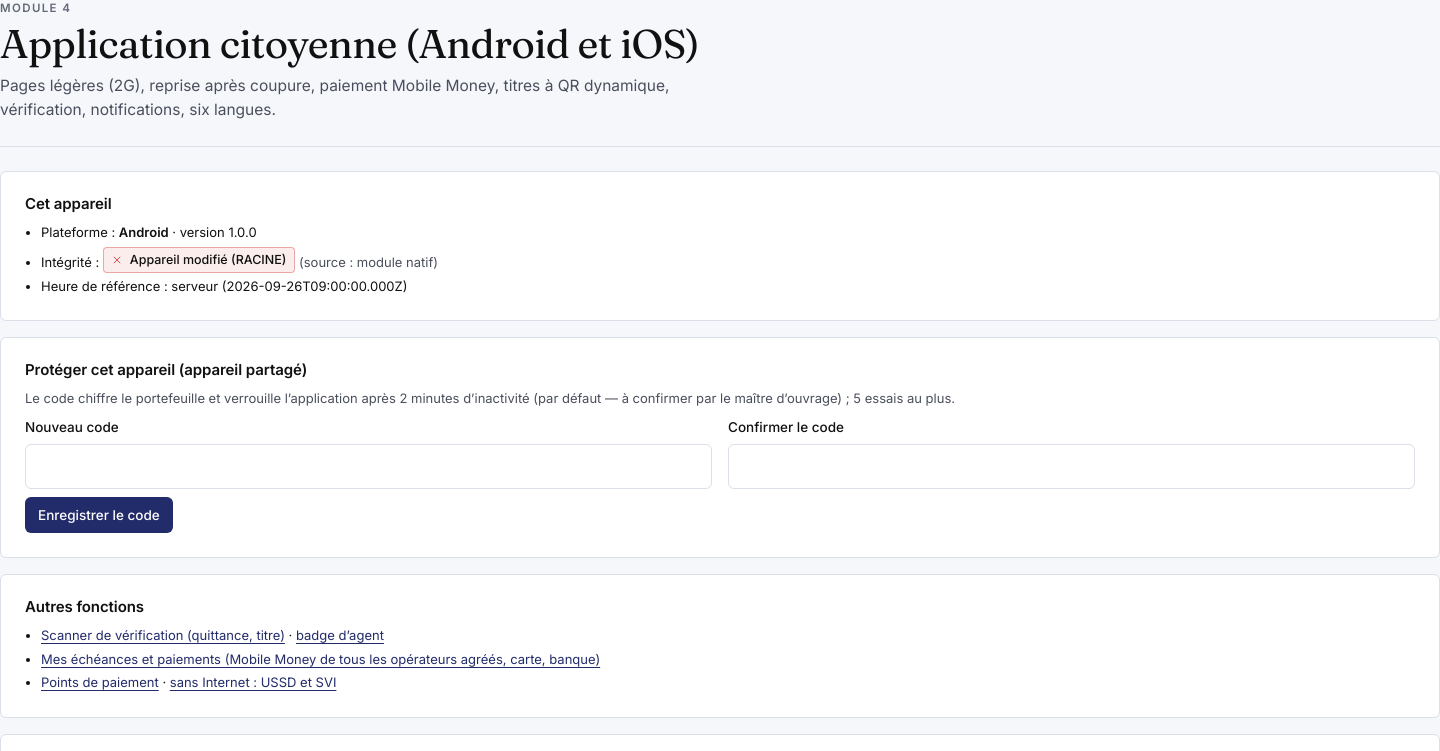
Scenario: Module 4 — fonctions de l’appareil (niveau web) › écran : installation enregistrée, appareil modifié signalé, code puis portefeuille ; en-tête d’installation joint aux requêtes
The width and height of the screenshot is (1440, 751).
Check: the text "Appareil modifié (RACINE)" is shown, box [130,250,286,270]
Type "1234" into the password field labelled "Nouveau code" at (368, 466), box [25,444,712,489]
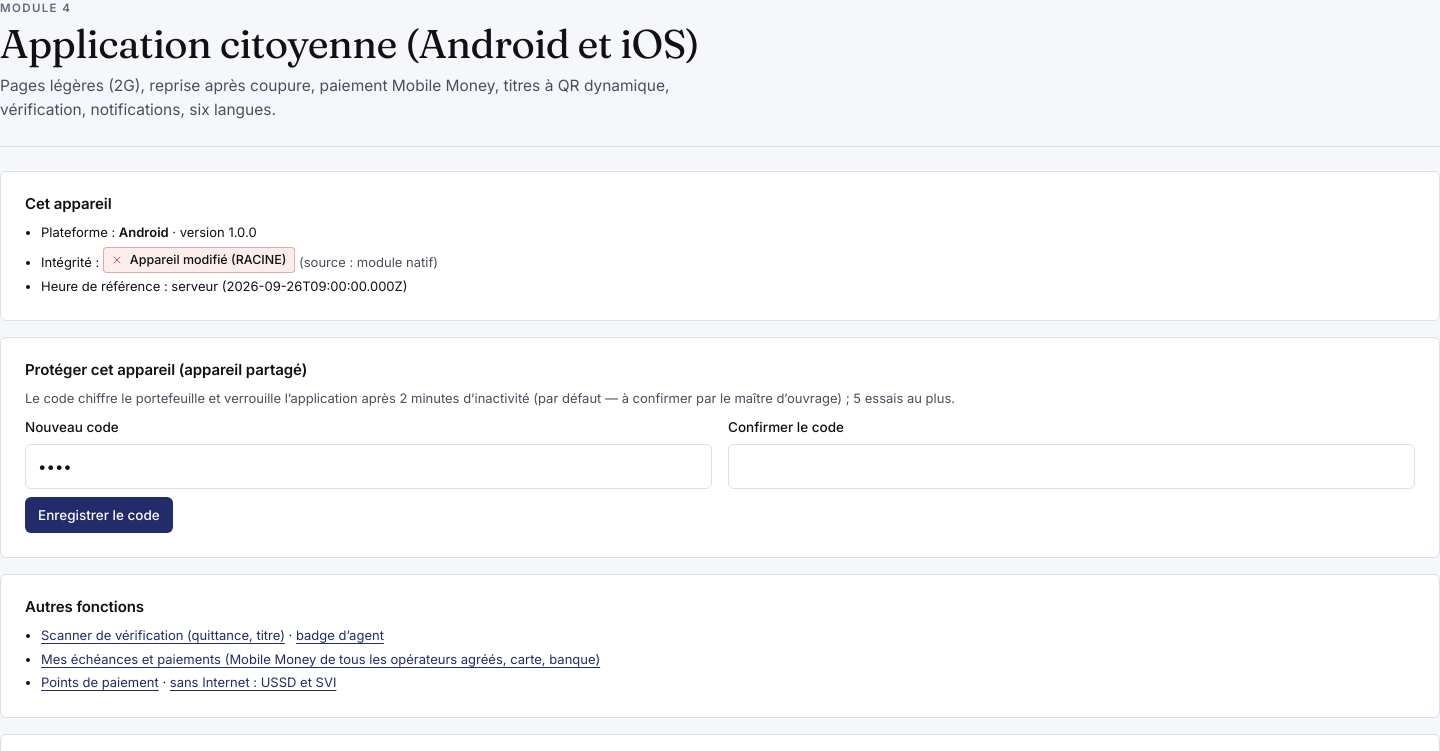
Type "1234" into the password field labelled "Confirmer le code" at (1072, 466), box [728,444,1415,489]
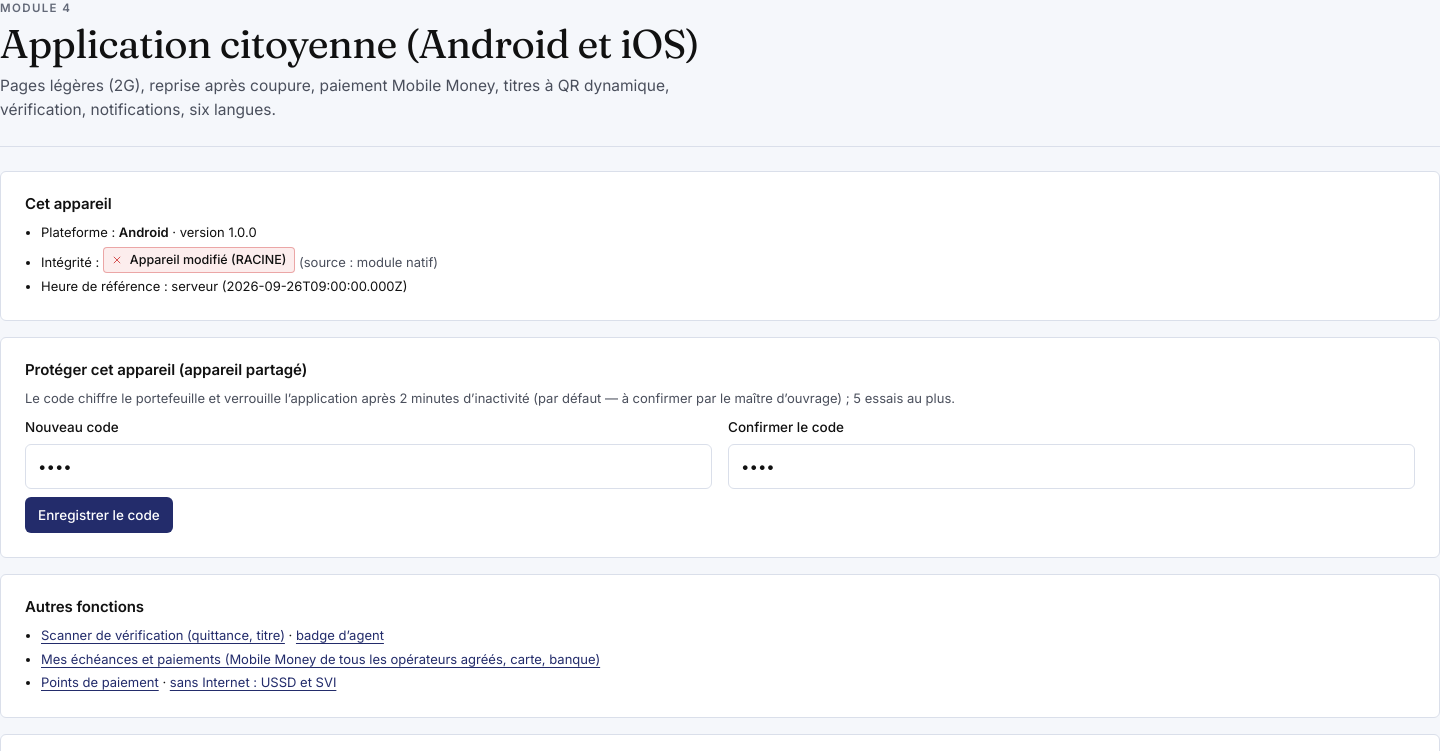
Click the button "Enregistrer le code" at (99, 515), box [25,497,173,533]
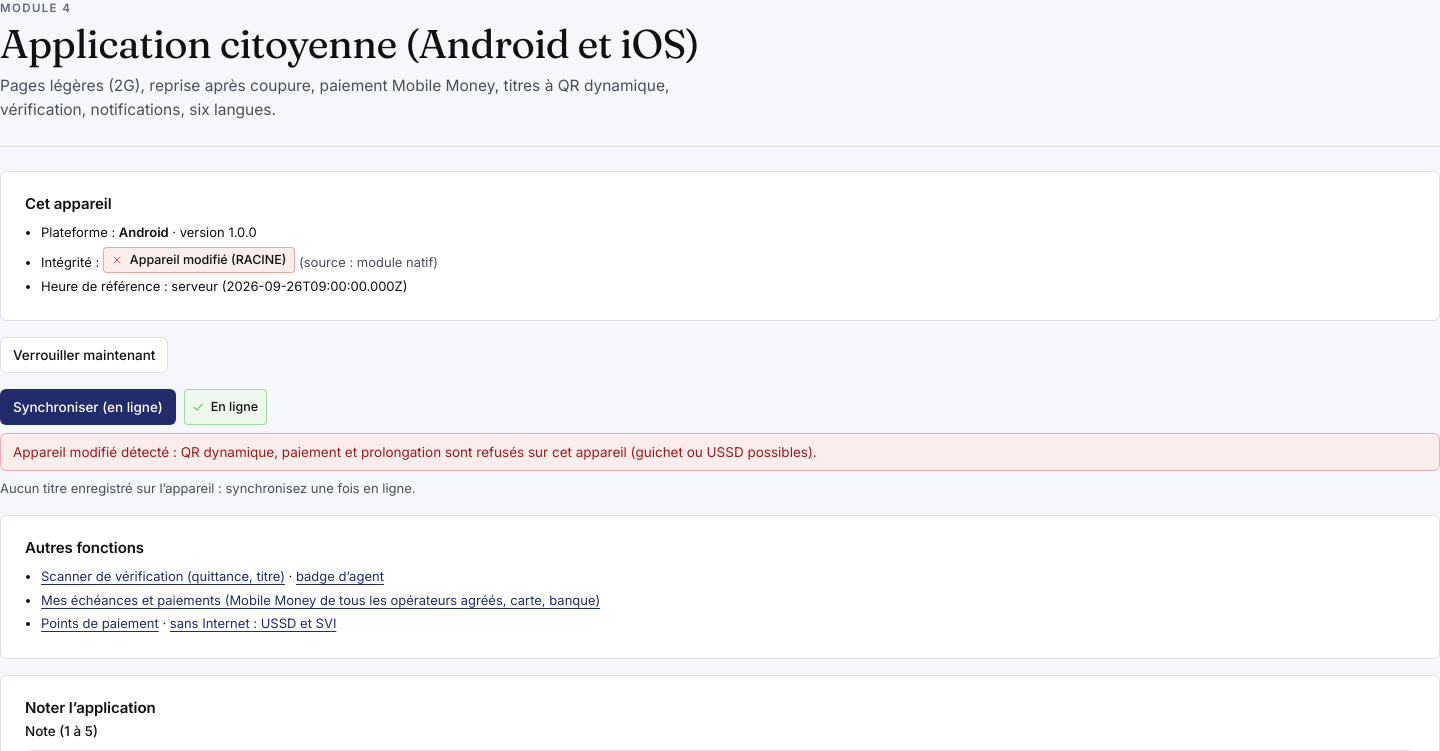
Check: the button "Verrouiller maintenant" is shown
Click the button "Verrouiller maintenant" at (84, 355), box [0,337,168,373]
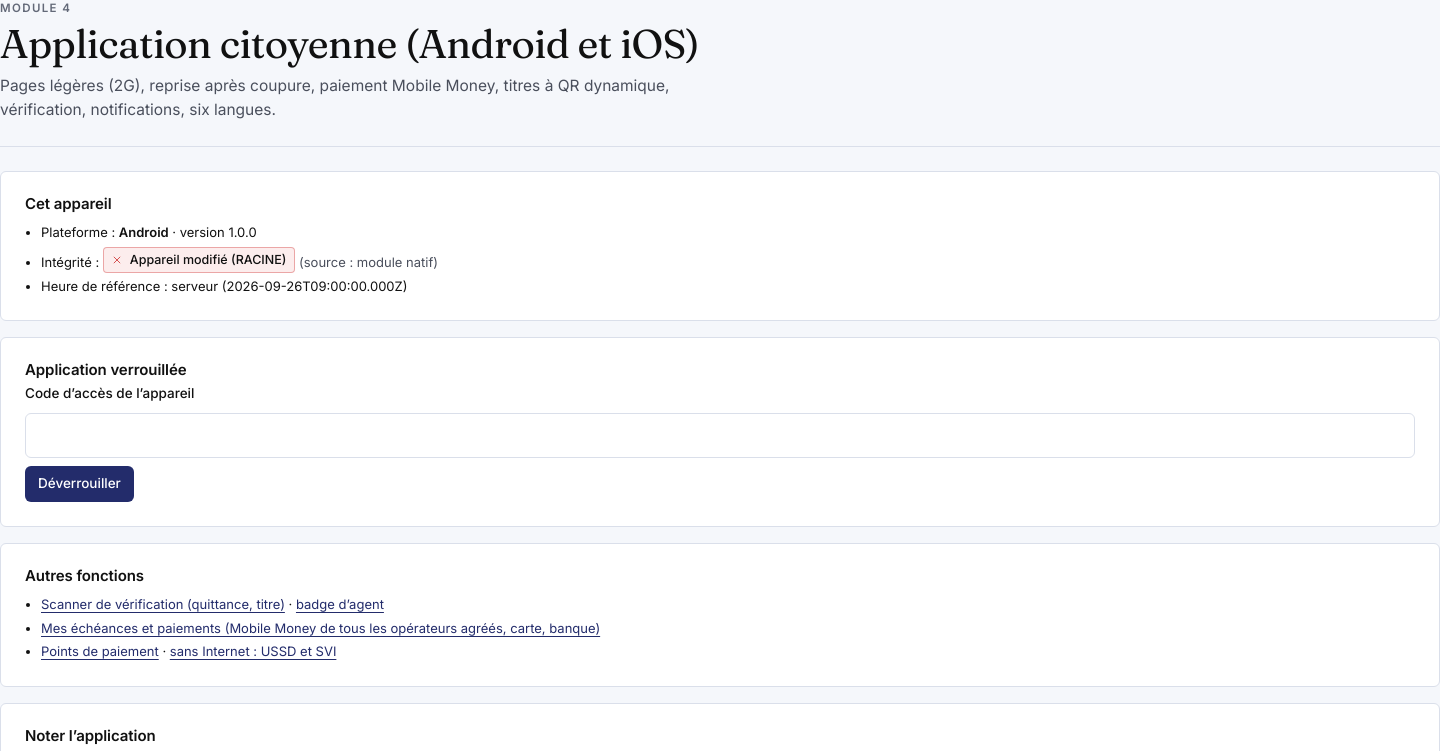
Check: the text "Application verrouillée" is shown, box [25,360,186,379]
